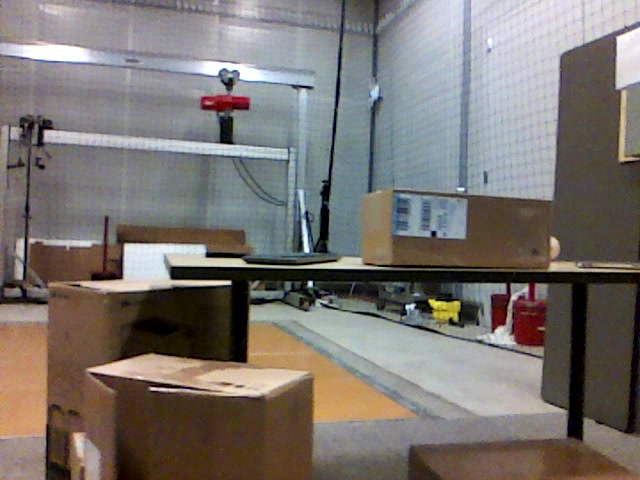box: (48, 280, 252, 480), (85, 356, 314, 480), (362, 188, 550, 267), (409, 439, 640, 480)
